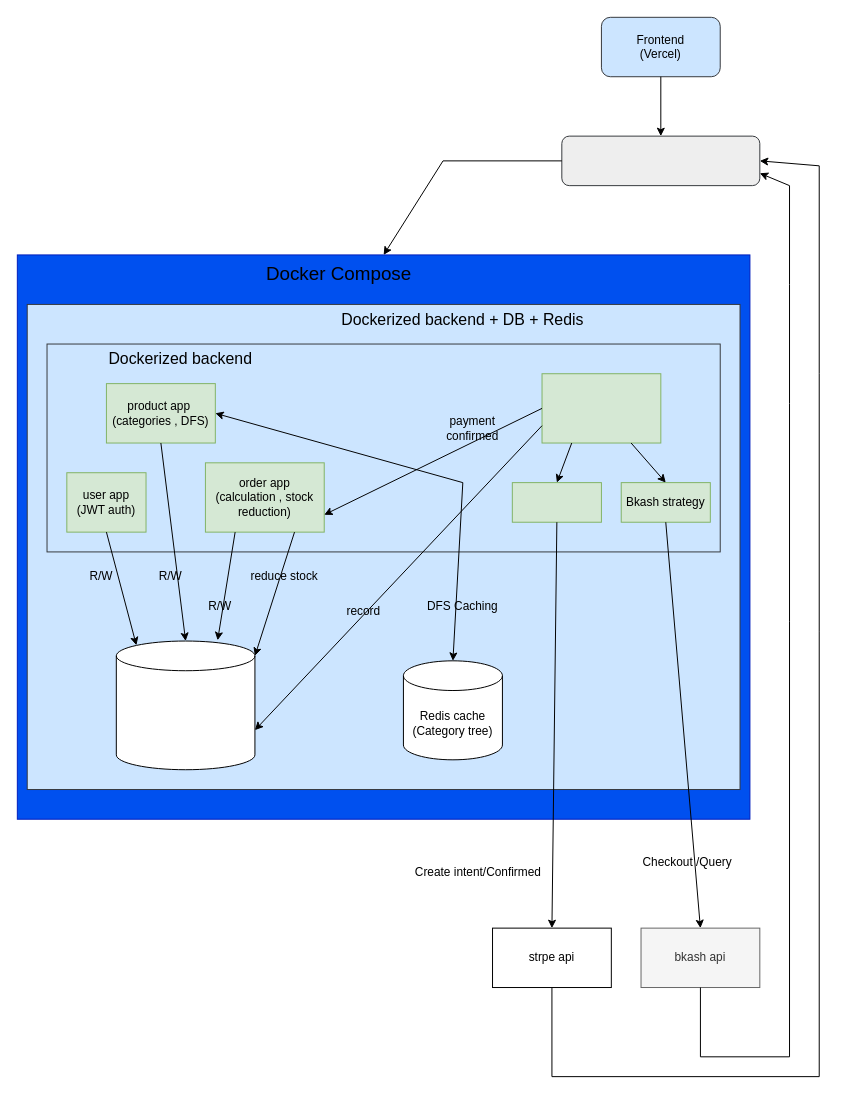
The diagram is 844 pixels wide and 1102 high, and some of its shapes have lost their labels. Each missing label, with the centre of its shape:
Database (Users, Products, Categories, Orders, OrderItems,Payments ): [185,705]
Ngrok Tunnel: [660,160]
payment app (strategy context): [601,408]
Stripe strategy: [556,502]
